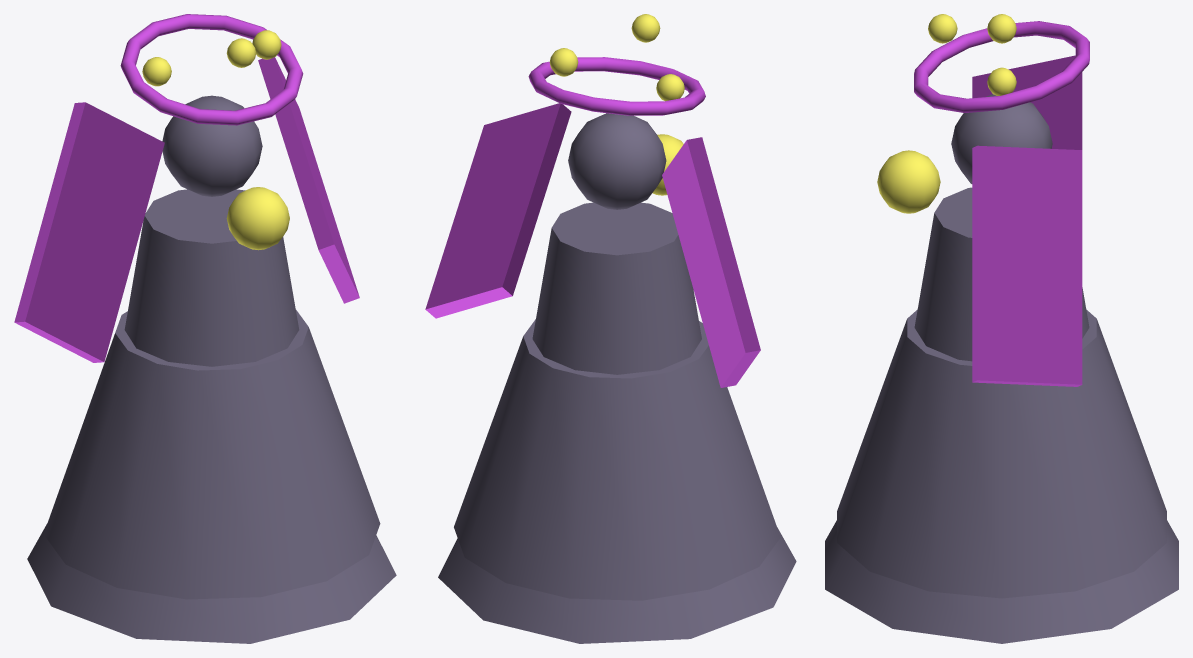
The model's file is cosmic_queen.glb.
3 views of the same model, side by side, from view 1: azimuth 30°, elevation 25°; view 2: azimuth 150°, elevation 25°; view 3: azimuth 270°, elevation 25° (orthographic). The views are drawn at different scales.
Parts seen in each view (by area): view 1: cosmic_queen; view 2: cosmic_queen; view 3: cosmic_queen.
Boxes of the visible parts, x1,y1,x2,y2 form: cosmic_queen: (14,14,396,643); cosmic_queen: (425,14,796,643); cosmic_queen: (825,14,1178,643).
Size of the model in its own units: 0.88 by 1.43 by 0.8369.
